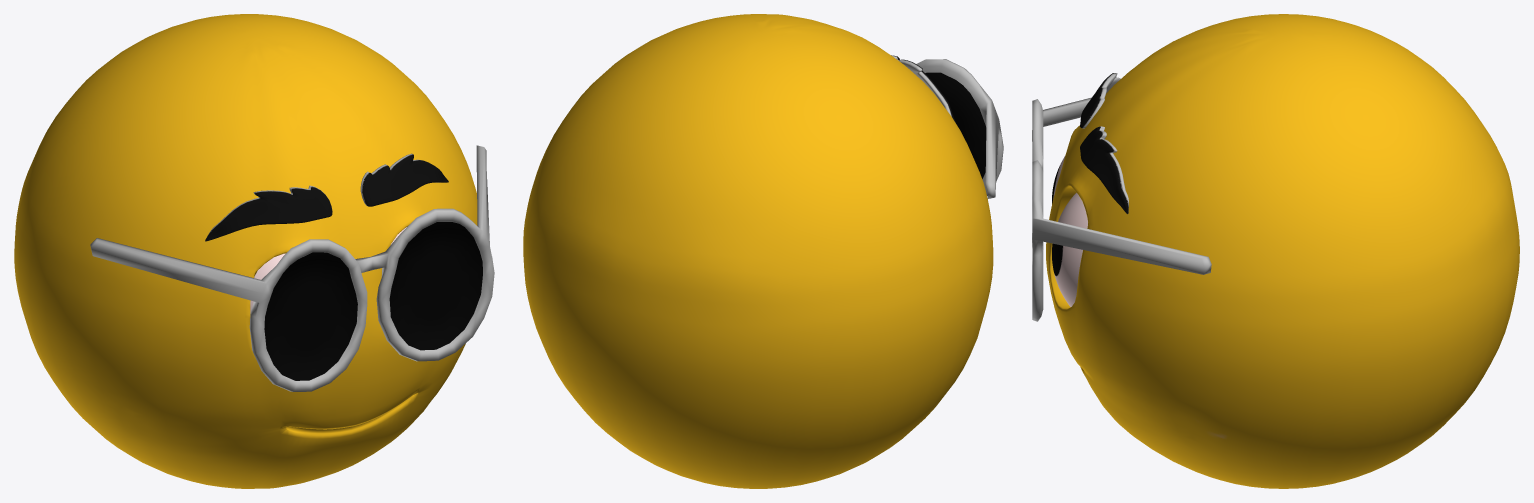
File: cool_000008.obj
3 renders of one model, left to right at view 1: azimuth 30°, elevation 25°; view 2: azimuth 150°, elevation 25°; view 3: azimuth 270°, elevation 25°, orthographic.
Parts seen in each view (by area): view 1: Smiley_goggle:Smiley_Untitled.001; view 2: Smiley_goggle:Smiley_Untitled.001; view 3: Smiley_goggle:Smiley_Untitled.001.
Part boxes in pixels (x1,y1,x2,y2): Smiley_goggle:Smiley_Untitled.001: (14, 14, 494, 488); Smiley_goggle:Smiley_Untitled.001: (523, 14, 1003, 488); Smiley_goggle:Smiley_Untitled.001: (1032, 14, 1519, 488).
Bounding box in the file's own units: 0.0425 × 0.0431 × 0.044.
Materials: 2 (2 with a texture image).
